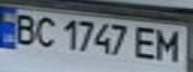1: (57, 17, 78, 51)
4: (90, 20, 115, 55)
7: (109, 21, 133, 56), (75, 18, 96, 52)
B: (6, 11, 42, 46)
C: (30, 14, 60, 48)
E: (130, 24, 163, 61)
M: (151, 27, 187, 63)
